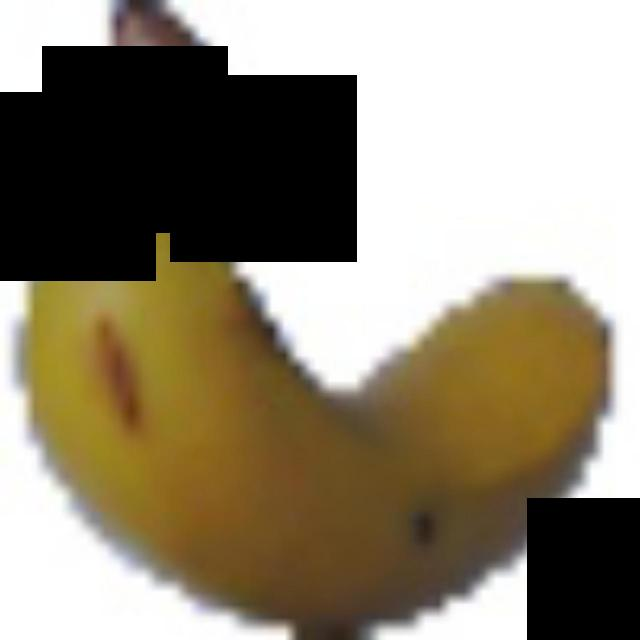banana: (26, 0, 614, 634)
